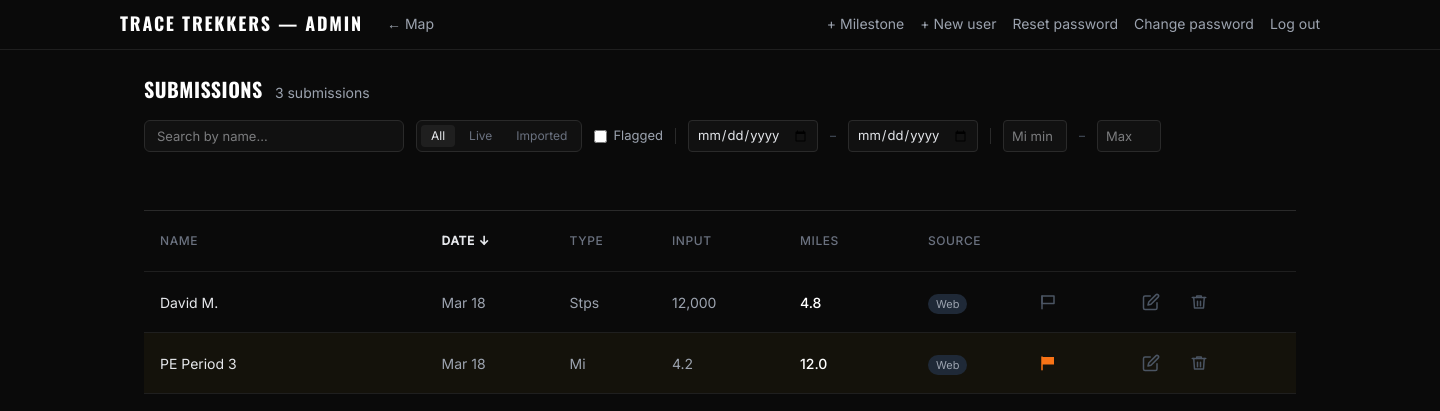
AdminPage › search filtering › shows the empty-filtered state when no rows match the search
Expected: the text "Ms. Rivera's Class" is shown, [160,232,281,250]
Type "zzznomatch" into the field with placeholder "Search by name...". click: (274, 136)
box: [144,120,404,152]
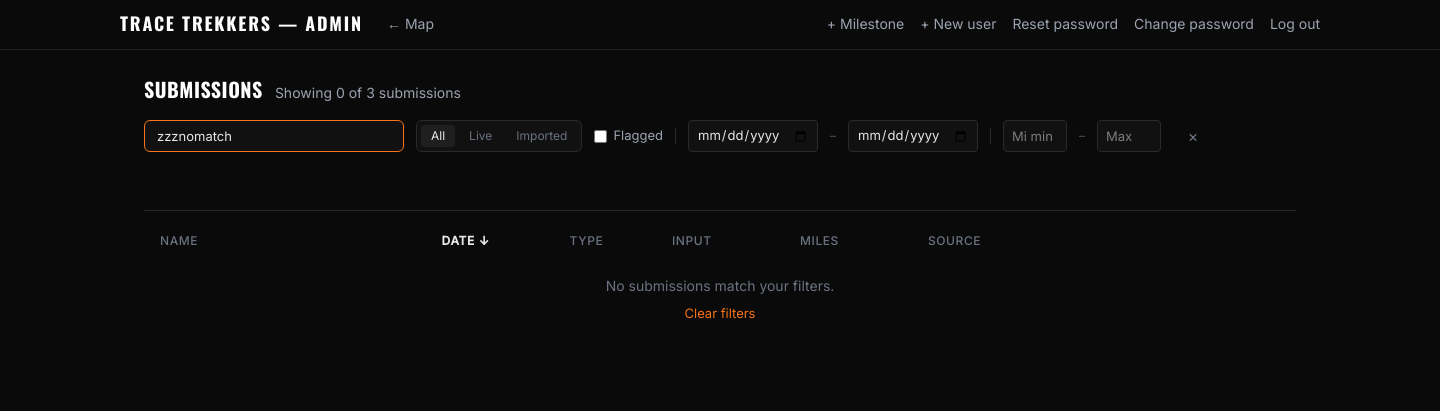
Expected: the text "No submissions match your filters." is shown, [606,277,834,294]
